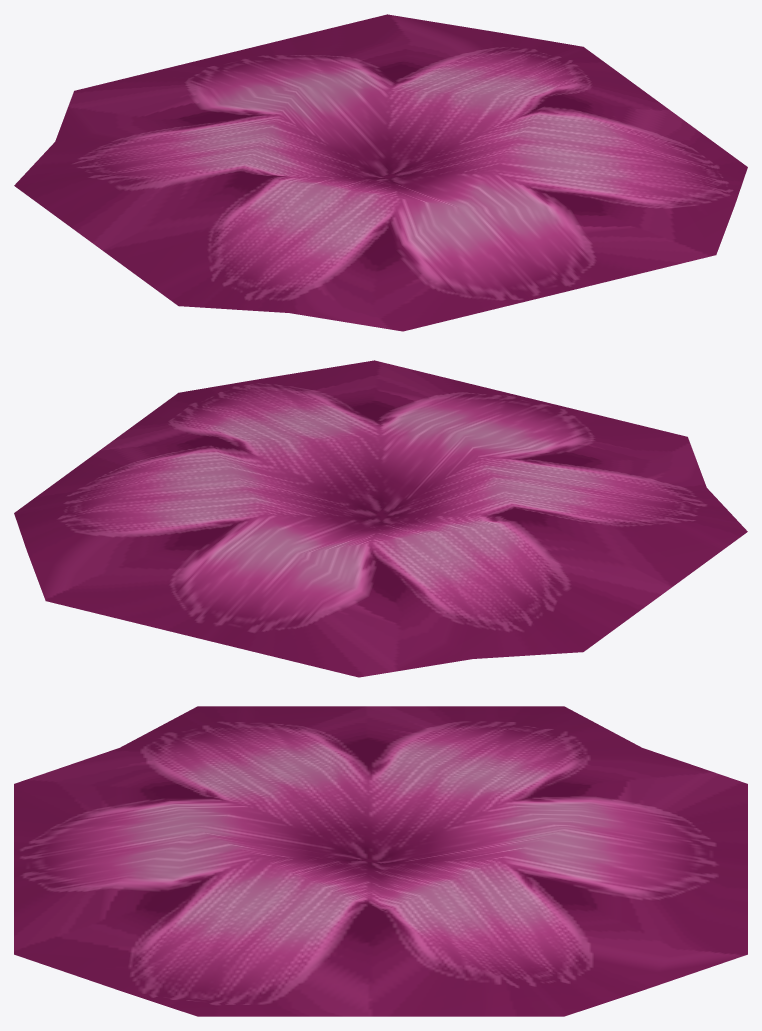
Rendered from Flower03_Art.fbx.
3 renders of one model, top to bottom at view 1: azimuth 30°, elevation 25°; view 2: azimuth 150°, elevation 25°; view 3: azimuth 270°, elevation 25°, orthographic. The views are drawn at different scales.
Parts seen in each view (by area): view 1: Flower03_Art; view 2: Flower03_Art; view 3: Flower03_Art.
Boxes of the visible parts, bbox=[...] form: Flower03_Art: bbox=[14, 14, 747, 331]; Flower03_Art: bbox=[14, 360, 747, 677]; Flower03_Art: bbox=[14, 706, 747, 1016].
Size of the model in its own units: 0.6029 by 0.0375 by 0.6029.
